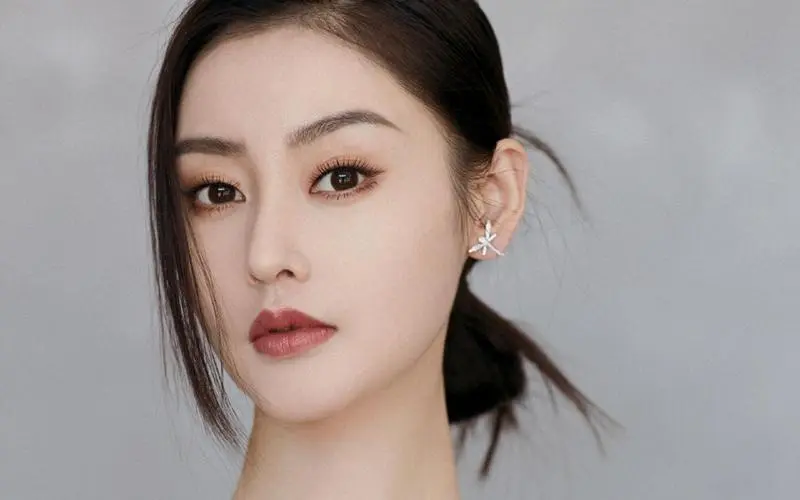withoutmask: (119, 5, 542, 433)
